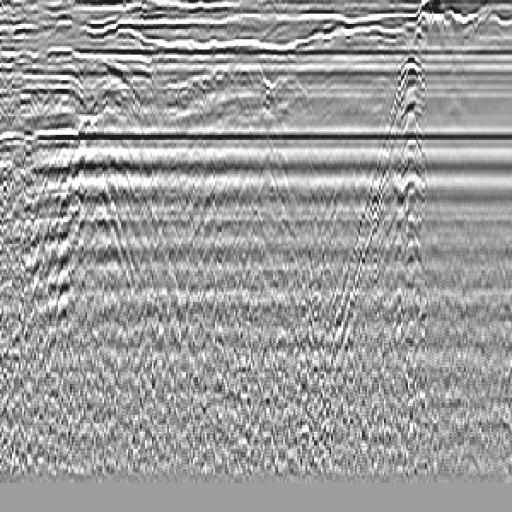metalic: (363, 55, 460, 353)
